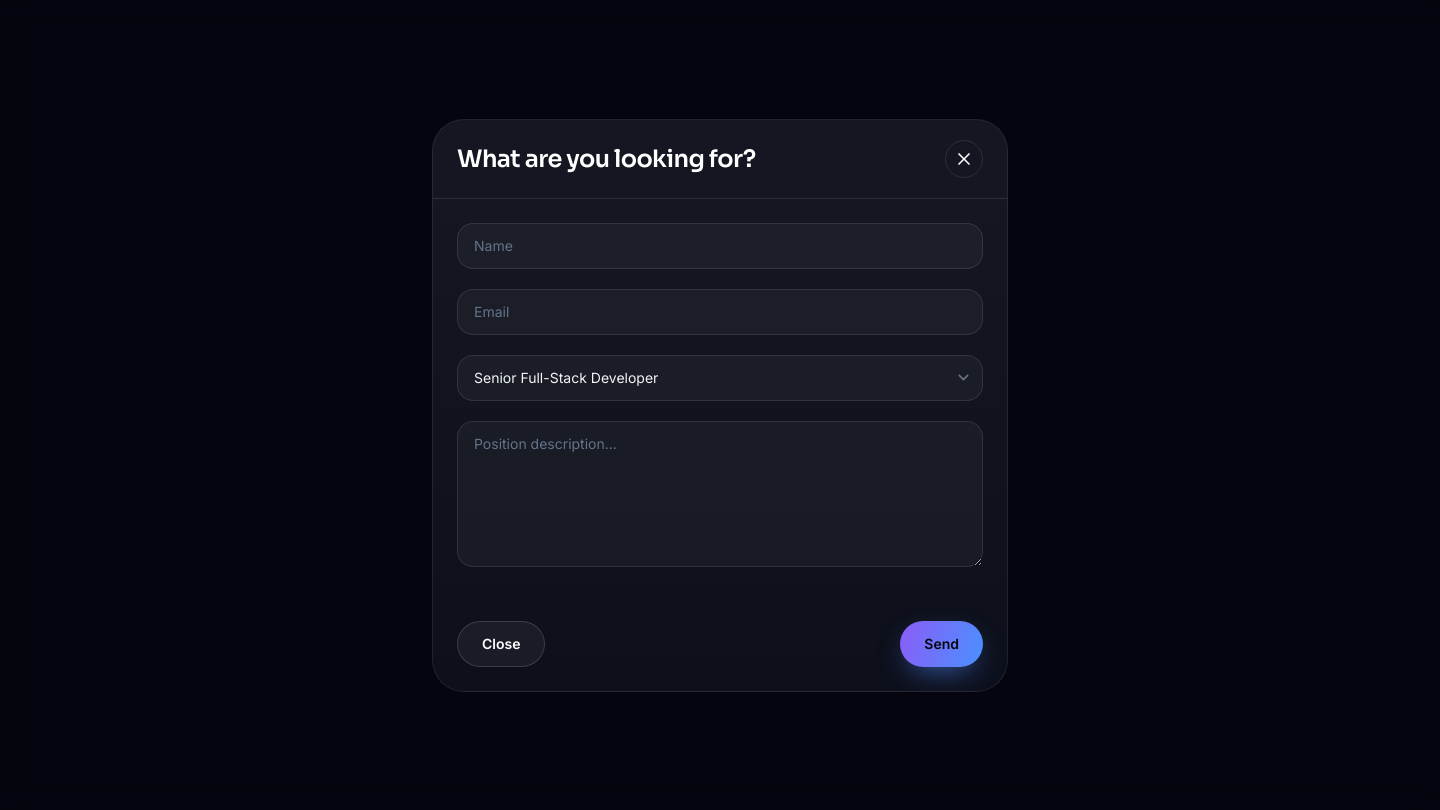
Scenario: an incomplete form is not sent
The image size is (1440, 810).
Click the button "Send".
click(942, 644)  # box [900,620,983,666]
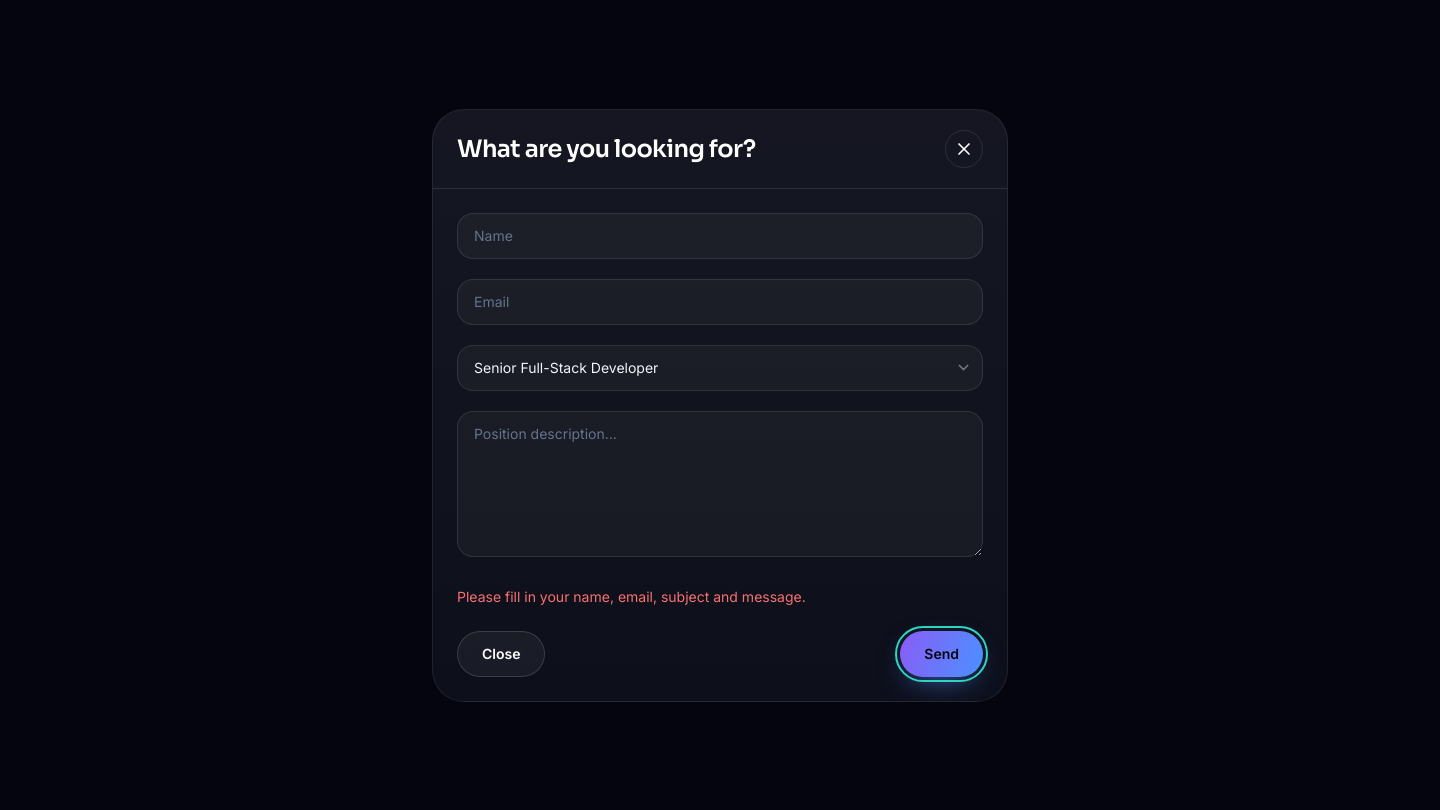
Check: the message shows "fill in your name", box [457,588,806,604]
